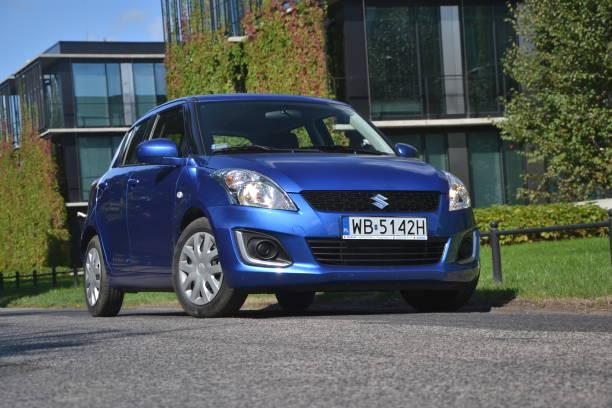suzuki: (364, 188, 392, 213)
